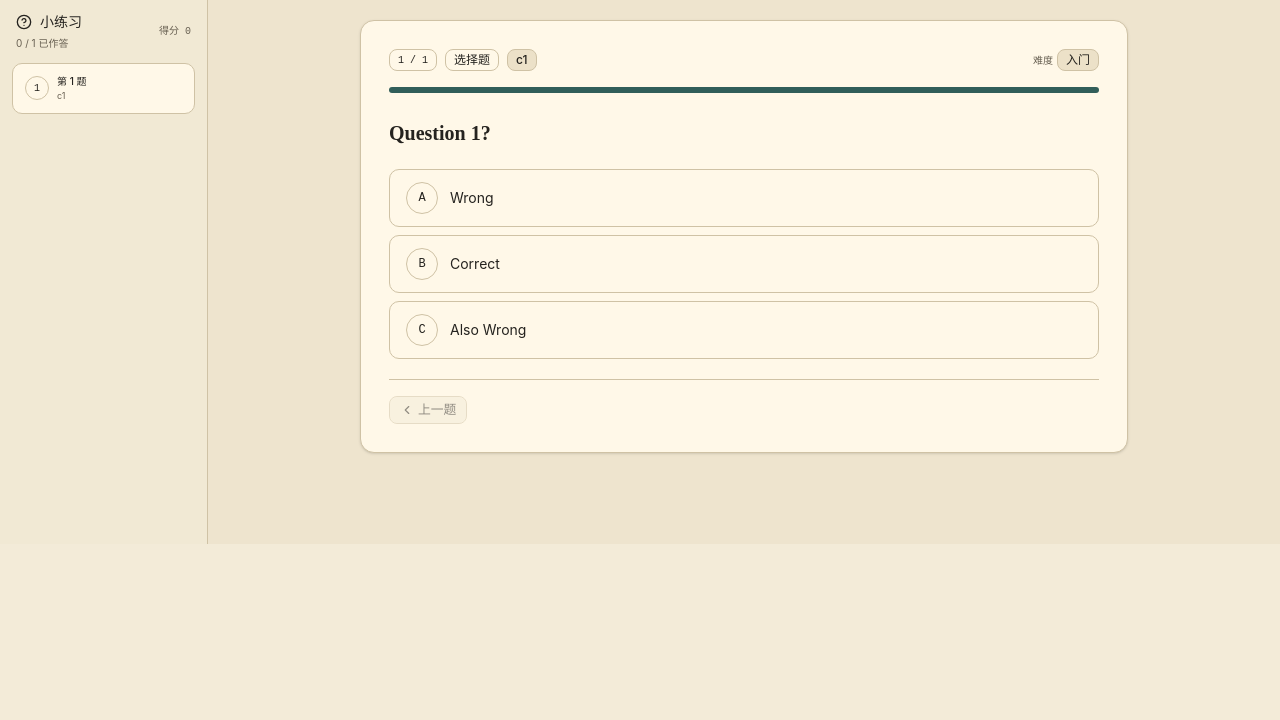
Test case: QuizPanel › selects option on click
Click the button "A Wrong": coordinates (422, 198) [389,169,1099,227]
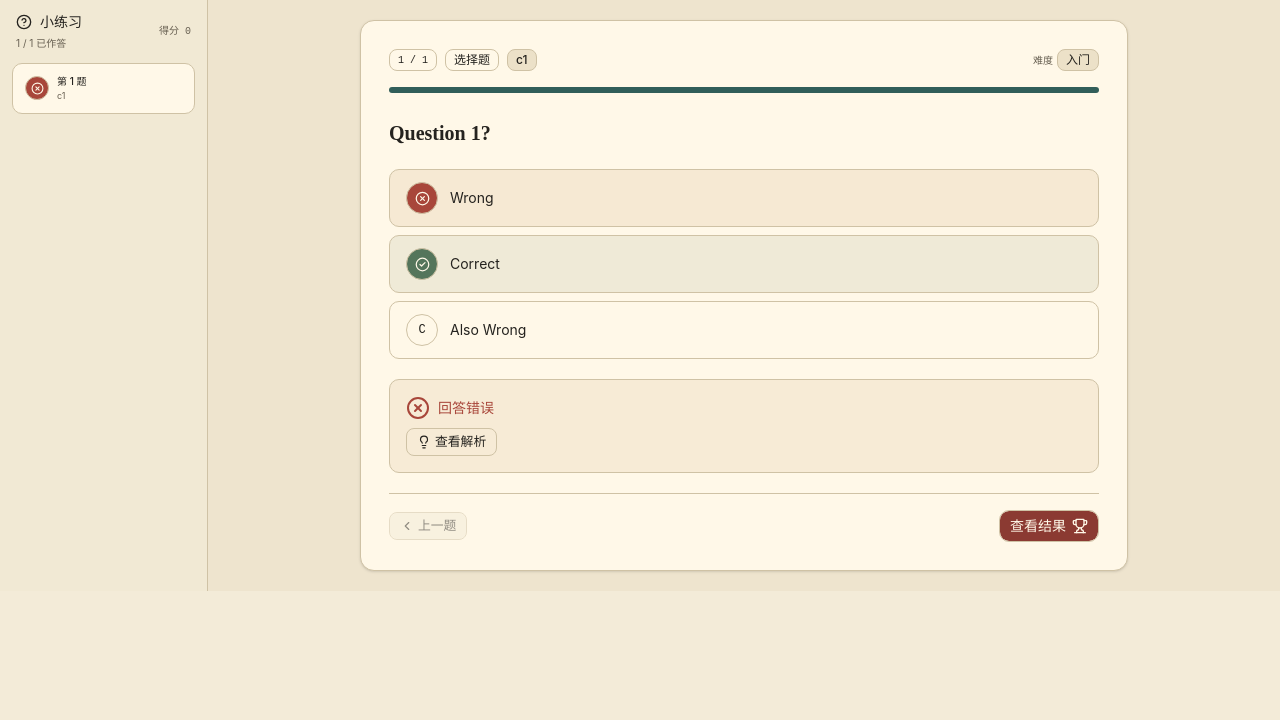
Result: the text "回答错误" is shown at [406,396,494,420]
